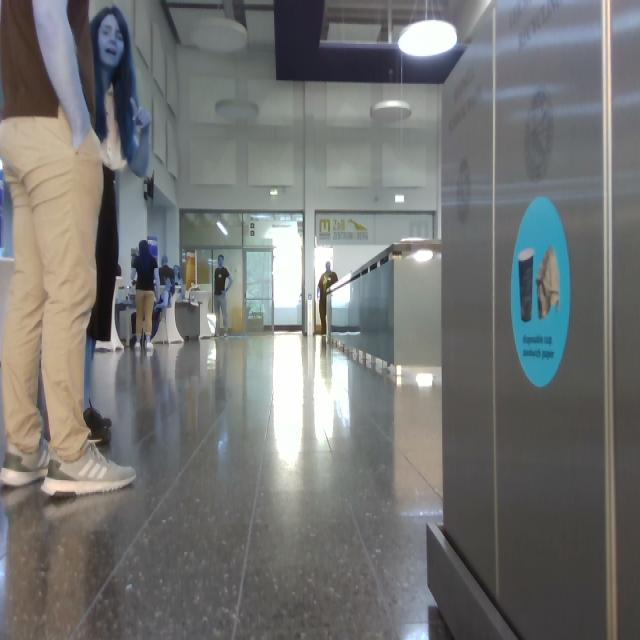desk: (176, 301, 200, 341)
door: (181, 212, 301, 333)
light bulb: (371, 53, 412, 122), (399, 20, 458, 57), (191, 17, 246, 53), (519, 249, 532, 322), (216, 100, 259, 122), (371, 101, 412, 124), (396, 196, 404, 202)
person: (1, 1, 136, 494), (84, 6, 151, 444), (132, 241, 157, 346), (151, 257, 175, 342), (214, 256, 233, 334), (318, 262, 338, 334)
staircase: (328, 241, 441, 385)
table: (156, 294, 183, 342)
tiled floor: (1, 334, 450, 640)
trash bin: (427, 1, 640, 640)
